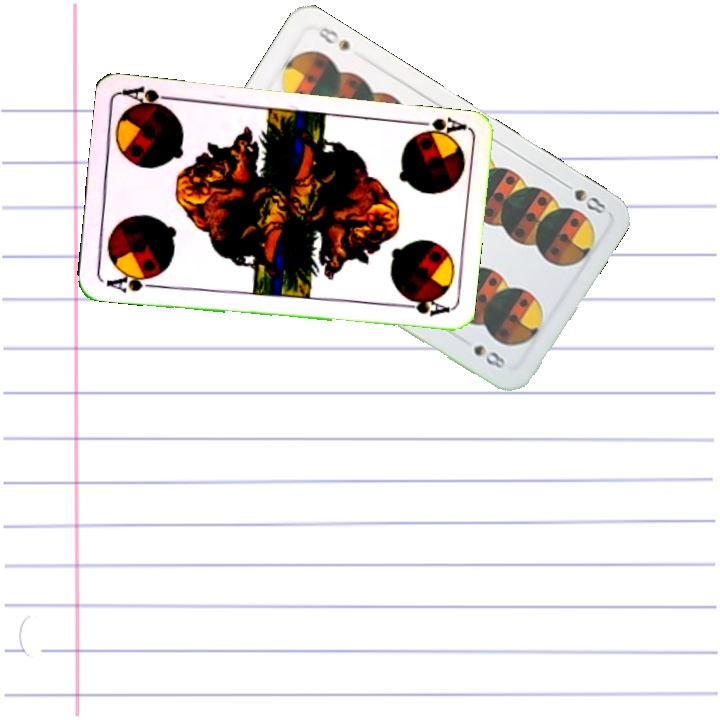S8: (556, 177, 609, 217)
SA: (408, 114, 468, 143), (102, 267, 160, 295)
